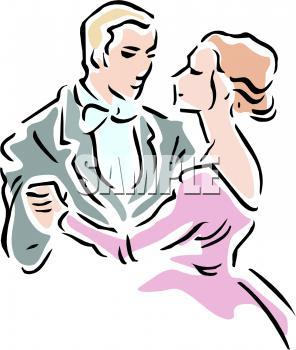person: (2, 6, 173, 272), (160, 32, 289, 346)
